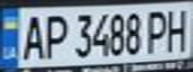3: (69, 10, 93, 58)
4: (90, 9, 112, 57)
8: (124, 9, 145, 55), (109, 9, 127, 56)
A: (15, 11, 48, 61)
H: (163, 5, 193, 53)
P: (39, 10, 69, 60), (142, 7, 172, 54)
